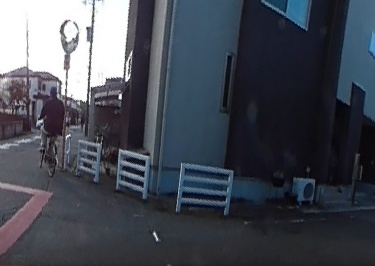person: (39, 86, 62, 162)
